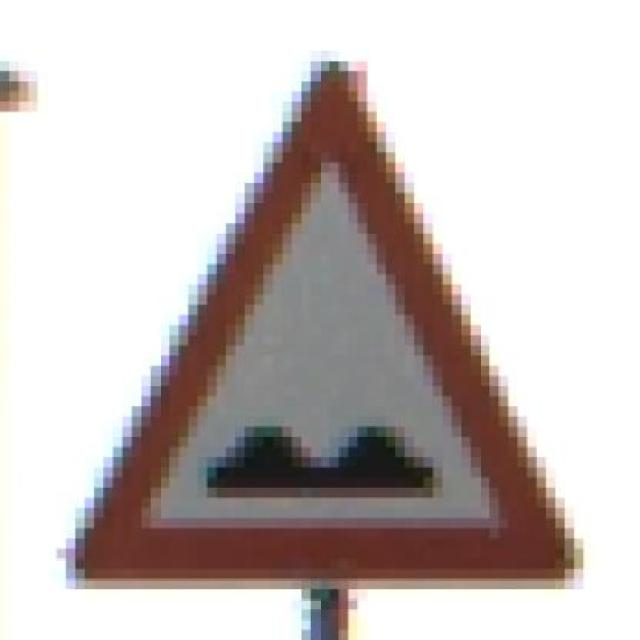Uneven Road: (56, 51, 584, 589)
